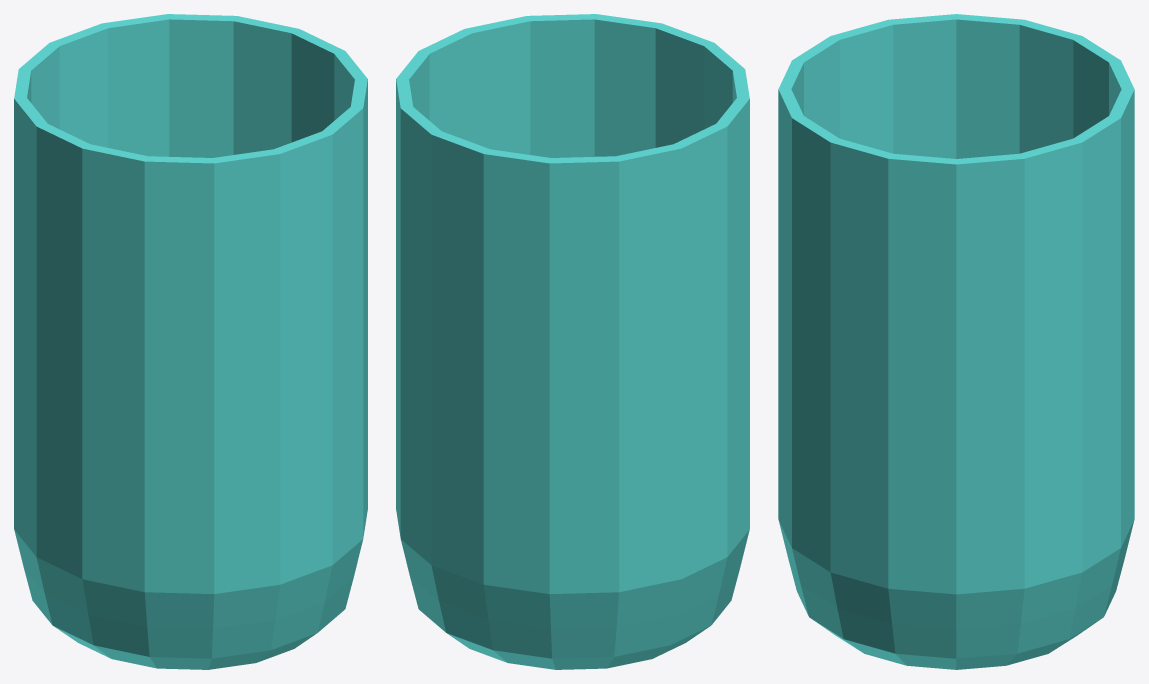
Rendered from Cup.glb.
The picture shows the model from 3 angles, left to right: view 1: azimuth 30°, elevation 25°; view 2: azimuth 150°, elevation 25°; view 3: azimuth 270°, elevation 25°; orthographic projection.
Visible parts, largest first — view 1: Cylinder; view 2: Cylinder; view 3: Cylinder.
Part boxes in pixels (left/top/right/bottom): Cylinder: left=14, top=14, right=367, bottom=669; Cylinder: left=396, top=14, right=749, bottom=669; Cylinder: left=778, top=14, right=1134, bottom=669.
Size of the model in its own units: 1.37 by 2.23 by 1.37.
